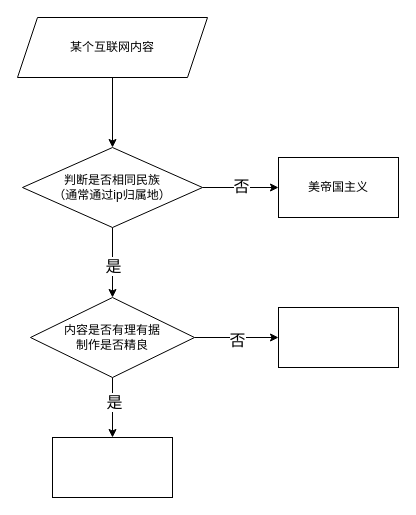
The diagram is 416 pixels wide and 515 high, and some of its shapes have lost their labels. Each missing label, with the box of its shape:
16e 罕见 公知: (52, 436, 172, 498)
被洗脑的大聪明 走狗 五毛: (278, 306, 398, 368)
